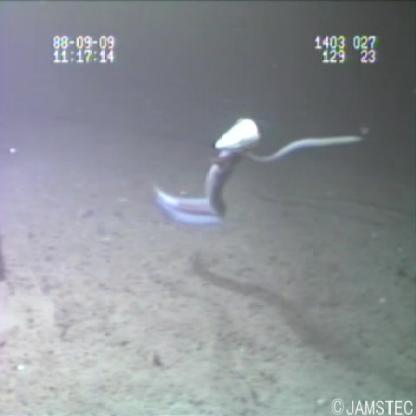Bio: (146, 111, 263, 232), (236, 120, 377, 172)
